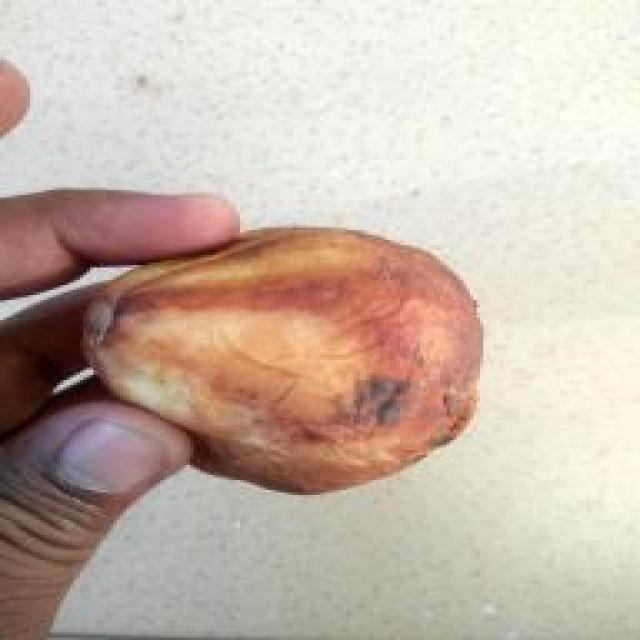Bad_Guava: (85, 229, 482, 492)
